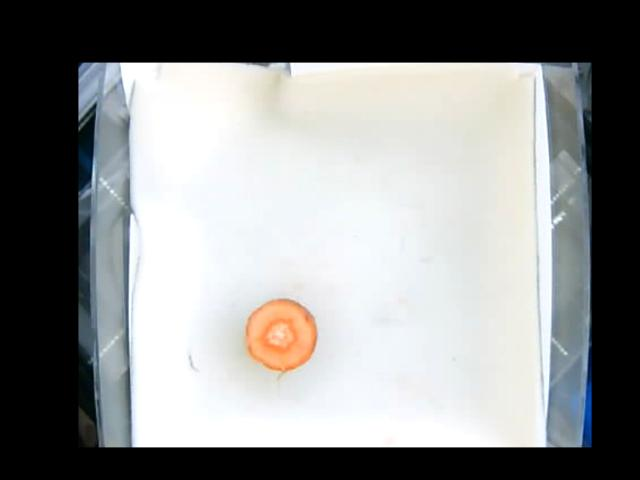Carrot: (242, 298, 318, 370)
